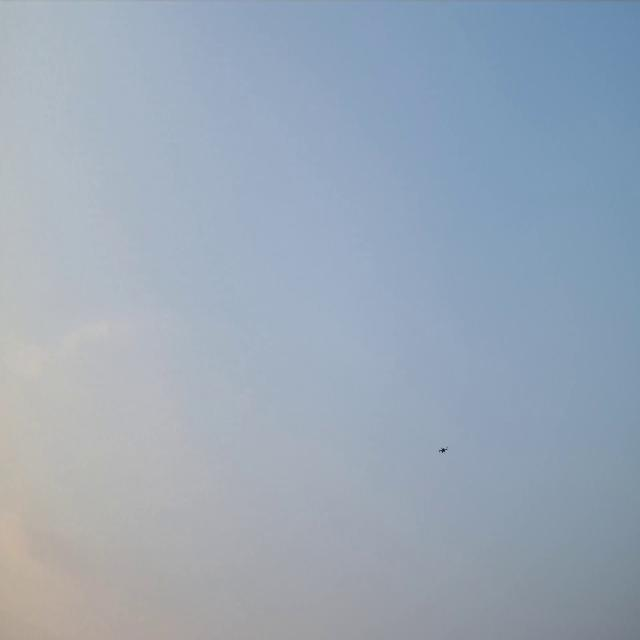UAV: (438, 444, 448, 455)
